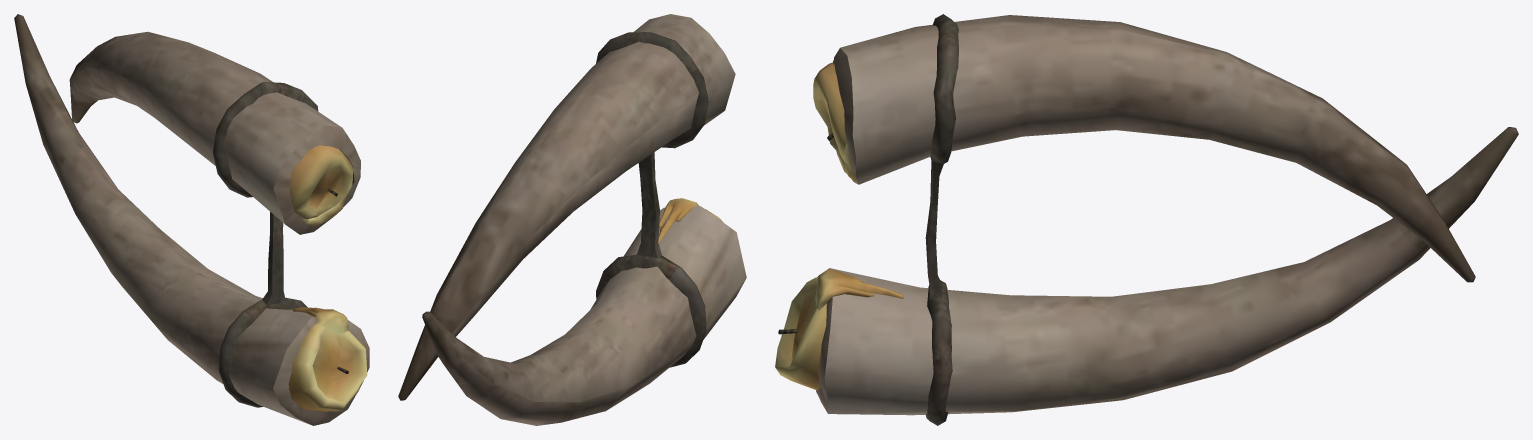
File: VIK_PRO_Candle_Horn_Wall_Double_01A_LOD0-transformed.glb
3 renders of one model, left to right at view 1: azimuth 30°, elevation 25°; view 2: azimuth 150°, elevation 25°; view 3: azimuth 270°, elevation 25°, orthographic. The views are drawn at different scales.
Visible parts, largest first — view 1: VIK_PRO_Candle_Horn_Wall_Double_01A_LOD0; view 2: VIK_PRO_Candle_Horn_Wall_Double_01A_LOD0; view 3: VIK_PRO_Candle_Horn_Wall_Double_01A_LOD0.
Part boxes in pixels (x1,y1,x2,y2): VIK_PRO_Candle_Horn_Wall_Double_01A_LOD0: (14, 14, 369, 425); VIK_PRO_Candle_Horn_Wall_Double_01A_LOD0: (398, 14, 746, 425); VIK_PRO_Candle_Horn_Wall_Double_01A_LOD0: (775, 14, 1518, 425).
Size of the model in its own units: 0.00173 by 0.00471 by 0.00799.
3 materials, 3 textured.
